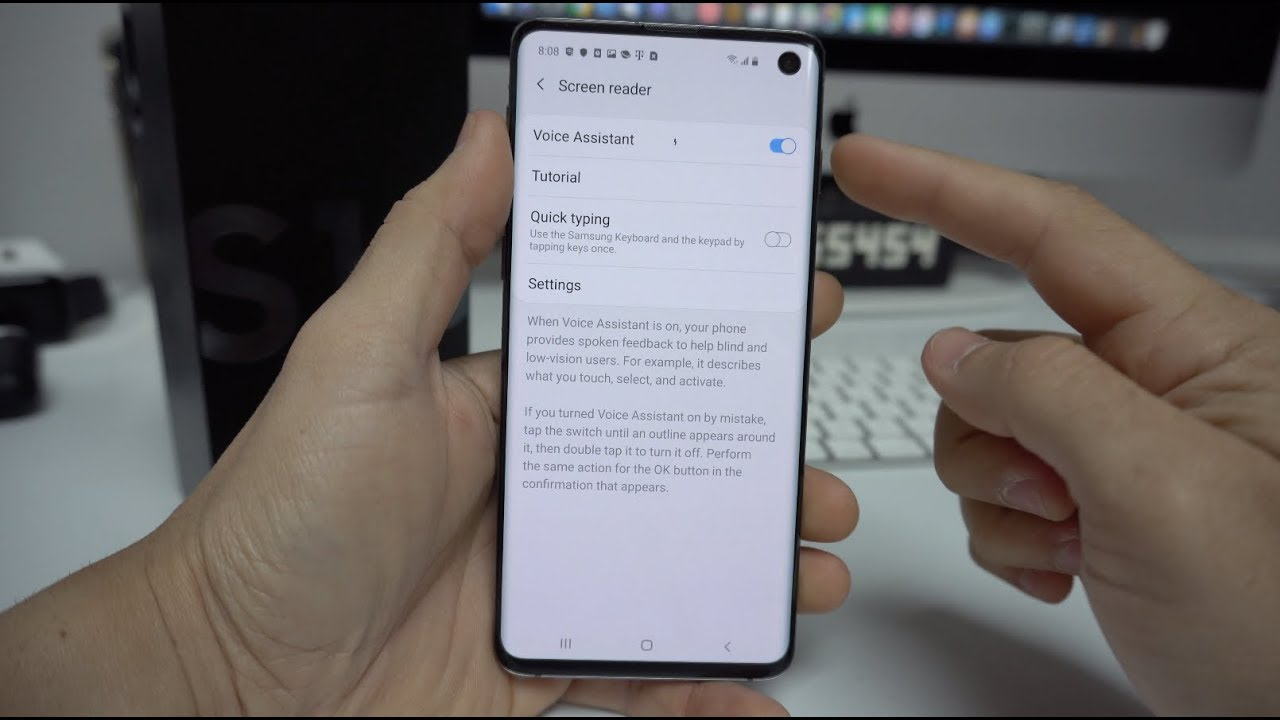Cell Phone: (506, 11, 812, 678)
